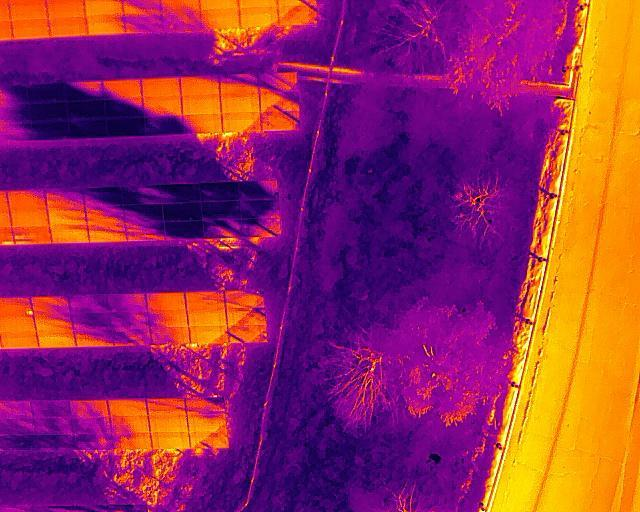Cell: (0, 297, 34, 316)
Cell-Multi: (12, 225, 50, 245)
No-Anomaly: (140, 77, 180, 97), (10, 19, 49, 39), (8, 0, 47, 20), (181, 94, 220, 114), (87, 15, 125, 35), (9, 207, 47, 227), (239, 9, 279, 27), (220, 95, 260, 113), (49, 17, 86, 36), (202, 10, 239, 29), (187, 309, 226, 327), (147, 292, 186, 310), (109, 398, 147, 416), (47, 0, 86, 17), (0, 331, 39, 348), (86, 0, 124, 17), (149, 416, 189, 432), (152, 432, 189, 449), (0, 316, 35, 333), (38, 331, 74, 347)
Shadowing: (219, 73, 259, 95), (259, 72, 298, 93), (8, 188, 47, 209), (163, 183, 202, 204), (185, 290, 225, 310), (47, 188, 87, 208), (179, 75, 218, 95), (125, 204, 164, 224), (261, 110, 300, 130), (185, 397, 226, 416), (68, 295, 109, 314), (181, 113, 222, 132), (107, 115, 144, 136), (203, 218, 241, 238), (241, 199, 279, 219), (125, 185, 163, 205), (221, 112, 261, 131), (29, 101, 67, 121), (68, 99, 106, 119), (29, 82, 67, 102), (151, 327, 190, 346), (108, 293, 147, 312), (127, 222, 166, 241), (242, 218, 281, 237), (163, 202, 202, 221), (30, 120, 69, 139), (104, 98, 143, 117), (103, 79, 142, 98), (279, 5, 316, 25), (87, 205, 124, 225), (125, 14, 163, 33), (72, 313, 110, 332), (240, 181, 278, 200), (143, 115, 181, 134), (142, 96, 180, 115), (147, 309, 187, 327), (70, 118, 106, 138), (164, 13, 201, 32), (112, 414, 149, 433), (87, 187, 124, 206), (112, 327, 151, 345), (225, 289, 264, 307), (260, 93, 299, 111), (70, 400, 108, 418), (229, 325, 267, 343), (33, 297, 69, 316), (51, 225, 89, 243), (202, 201, 240, 219), (114, 432, 151, 450), (166, 221, 203, 239), (202, 183, 239, 201), (72, 417, 111, 434), (149, 399, 188, 416), (74, 330, 113, 347), (189, 326, 228, 343), (227, 308, 266, 325), (48, 208, 87, 225), (68, 82, 104, 100), (34, 314, 71, 331), (110, 312, 147, 329), (89, 225, 126, 242), (187, 416, 226, 432), (31, 402, 70, 418), (75, 435, 113, 451), (34, 418, 72, 434), (190, 431, 227, 447), (39, 435, 75, 451), (124, 0, 162, 15)
